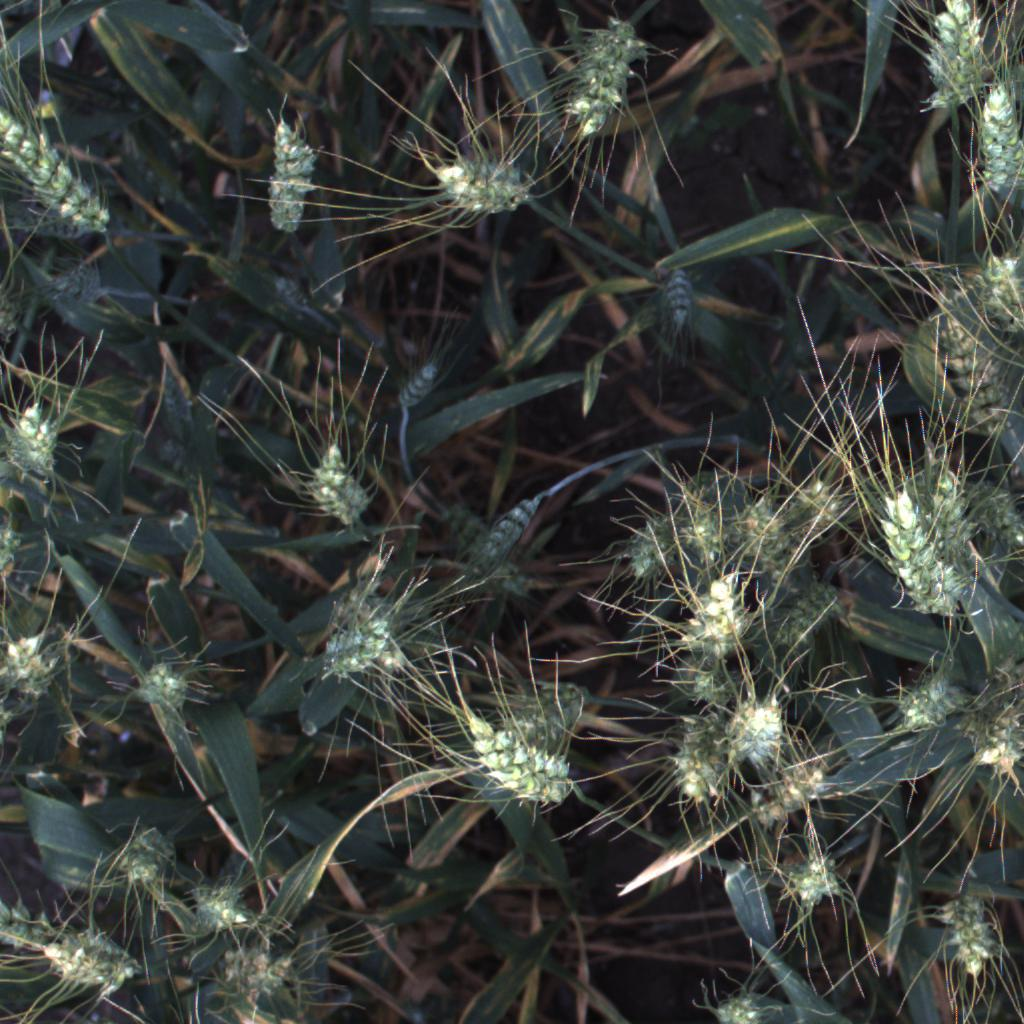0-0: (0, 106, 118, 239), (870, 487, 973, 621), (458, 710, 582, 813), (923, 295, 1014, 435), (24, 906, 154, 1002), (559, 9, 647, 140), (451, 479, 551, 588), (909, 0, 993, 122), (307, 608, 422, 683), (0, 606, 76, 719), (660, 710, 736, 822), (965, 68, 1024, 202), (263, 103, 321, 235), (935, 885, 1008, 985), (752, 751, 836, 831), (303, 439, 371, 530), (771, 574, 849, 653), (681, 570, 748, 661), (719, 691, 792, 773), (186, 870, 273, 938), (435, 158, 530, 220), (889, 664, 973, 729), (965, 239, 1021, 334), (217, 944, 300, 1006), (924, 463, 979, 556), (785, 845, 852, 920), (605, 513, 673, 585), (970, 695, 1024, 781), (704, 973, 790, 1024), (779, 475, 846, 540), (106, 834, 176, 895), (673, 497, 733, 566), (383, 350, 448, 410), (19, 414, 74, 481), (1, 391, 48, 469), (967, 489, 1024, 546), (736, 502, 790, 555), (659, 265, 703, 321), (133, 663, 182, 712), (685, 667, 740, 705)
